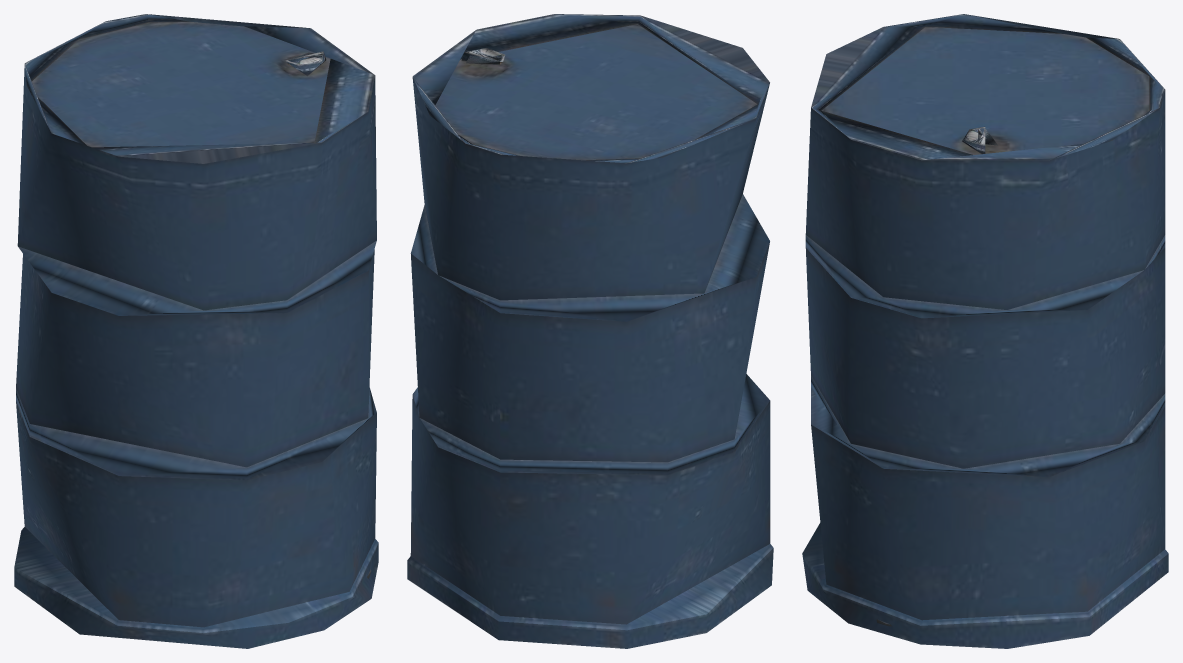
Rendered from barrel_03.glb.
3 renders of one model, left to right at view 1: azimuth 30°, elevation 25°; view 2: azimuth 150°, elevation 25°; view 3: azimuth 270°, elevation 25°, orthographic.
Visible parts, largest first — view 1: barrel_03; view 2: barrel_03; view 3: barrel_03.
Boxes of the visible parts, left/top/right/bottom form: barrel_03: left=14, top=14, right=378, bottom=648; barrel_03: left=407, top=14, right=773, bottom=648; barrel_03: left=802, top=14, right=1168, bottom=648.
Size of the model in its own units: 0.6132 by 0.9164 by 0.6237.
1 material, 1 textured.
